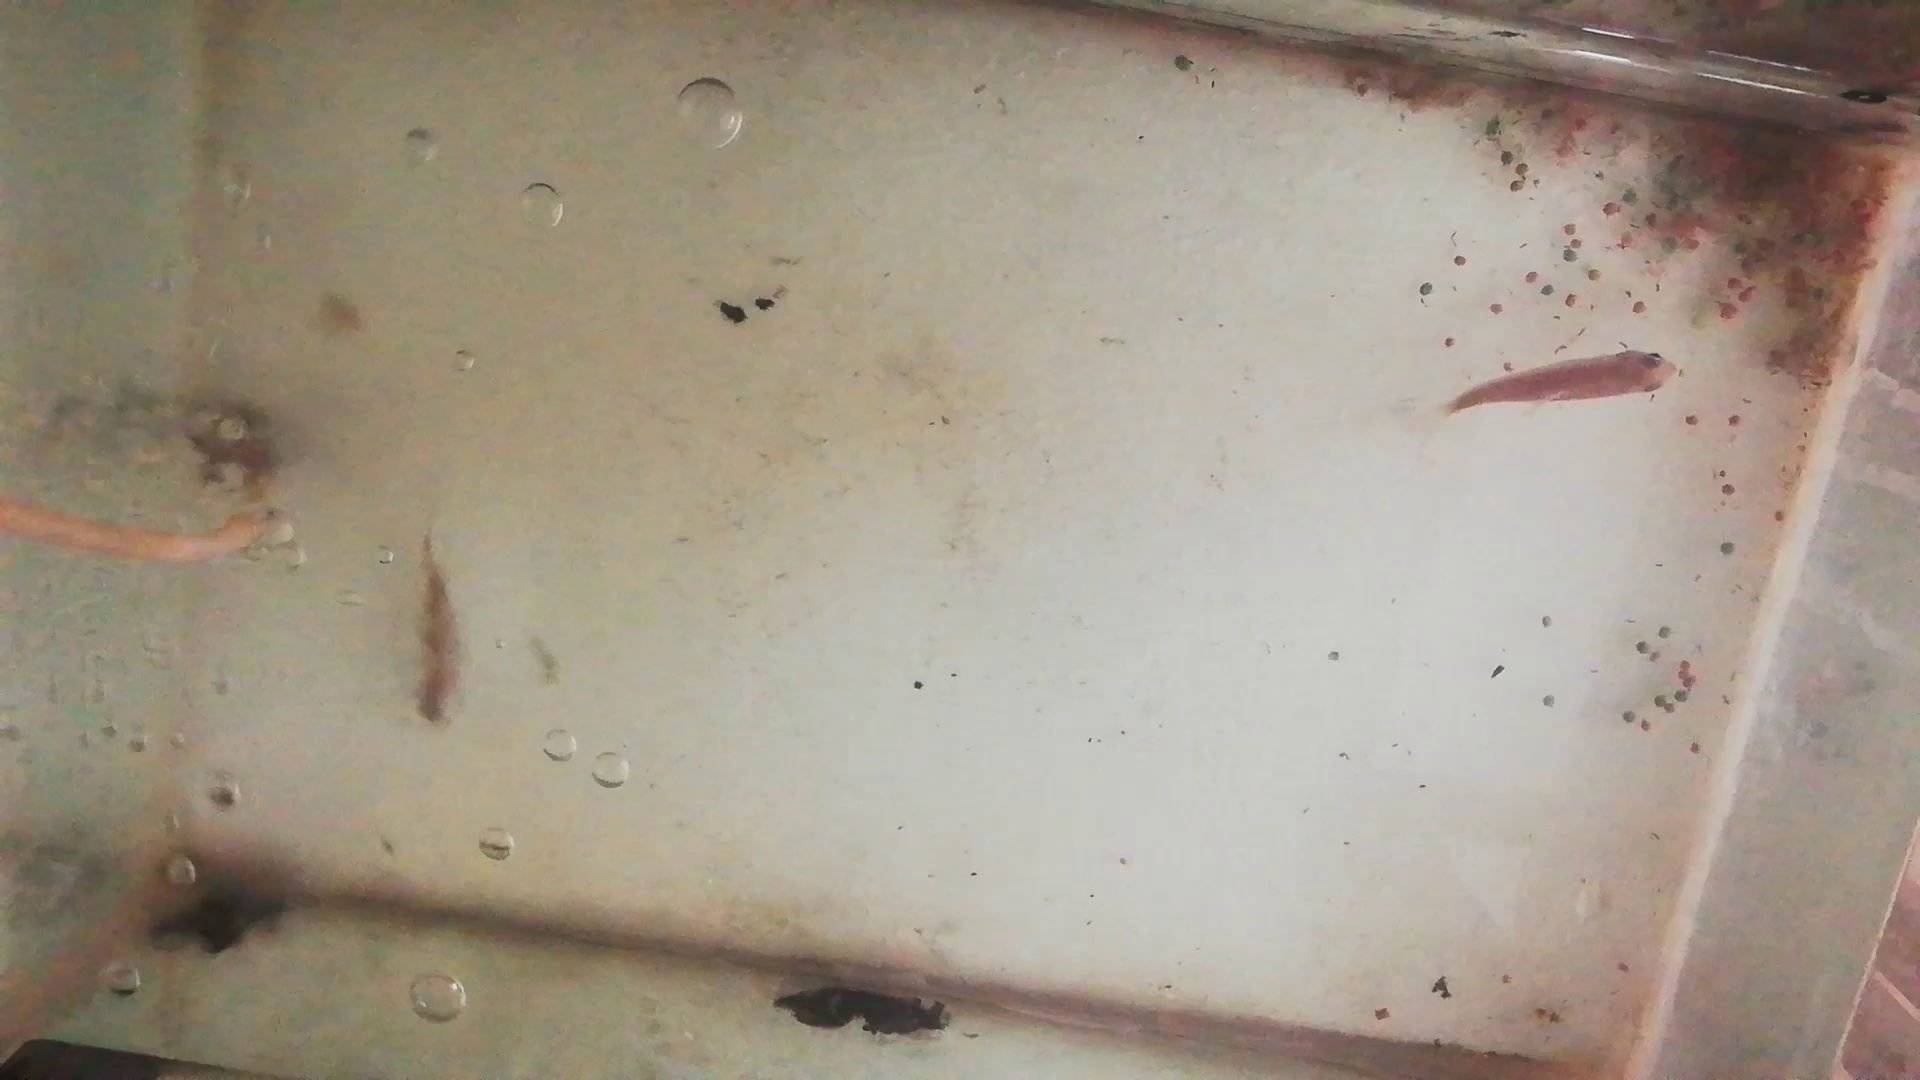fish: (1449, 345, 1672, 419), (407, 547, 467, 729)
